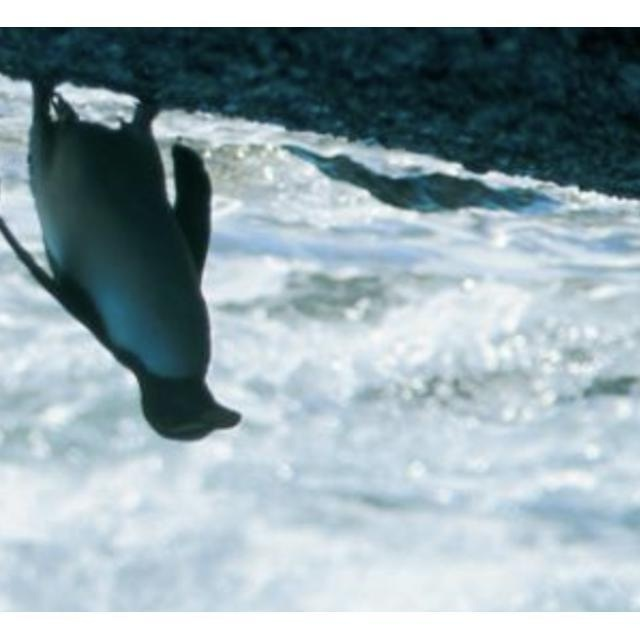penguin: (1, 75, 243, 442)
